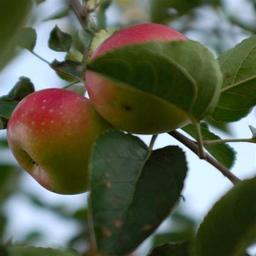apple: (87, 24, 220, 133), (6, 88, 104, 194)
